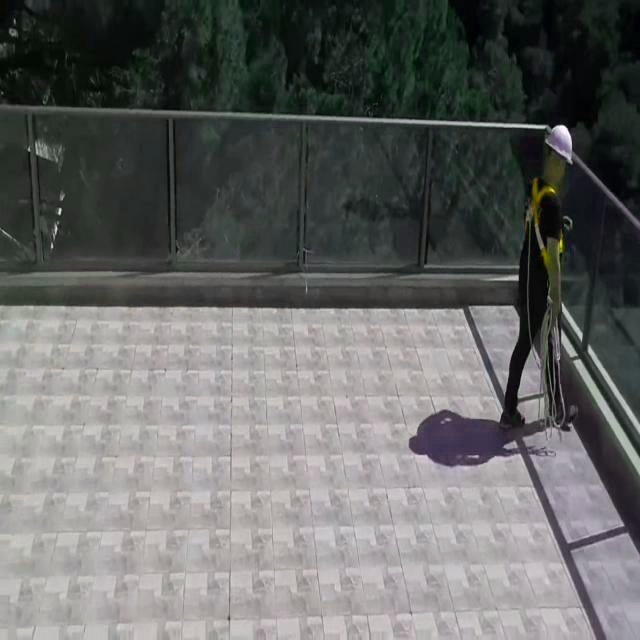safety belt: (514, 187, 575, 286)
